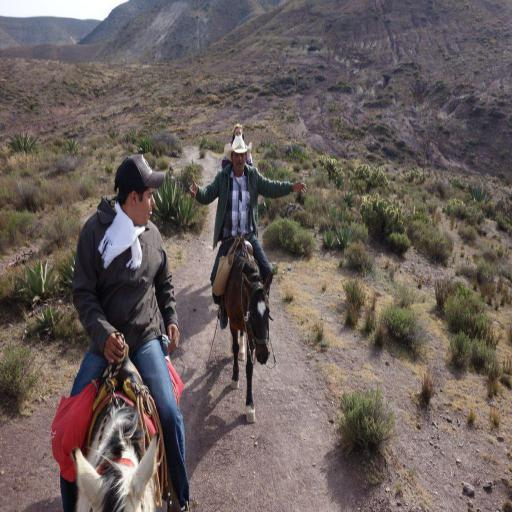Horse: (73, 355, 171, 511), (224, 248, 274, 423)
